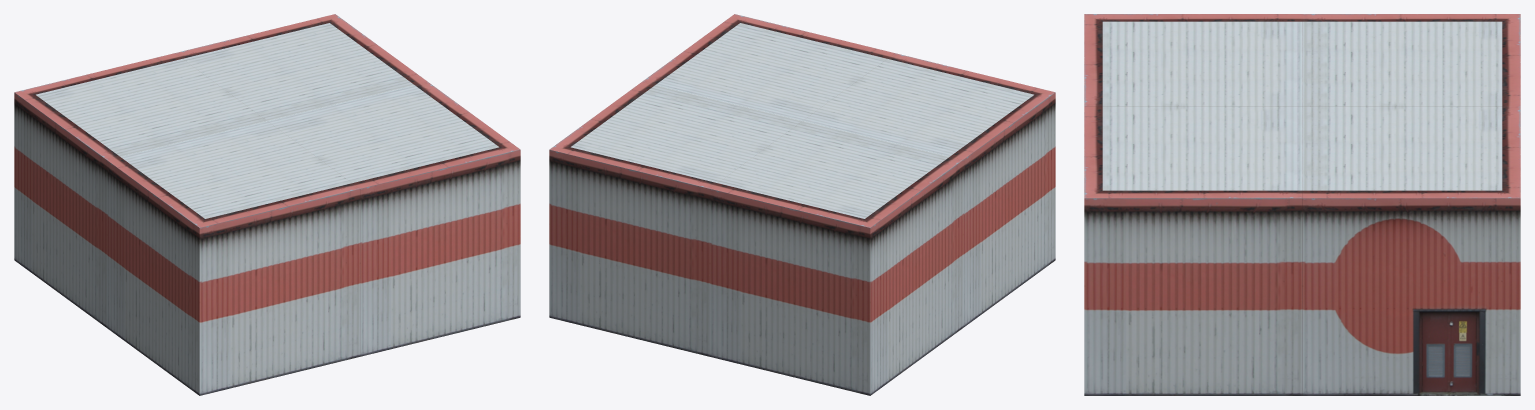
File: Building_C.glb
3 views of the same model, side by side, from view 1: azimuth 30°, elevation 25°; view 2: azimuth 150°, elevation 25°; view 3: azimuth 270°, elevation 25° (orthographic). The views are drawn at different scales.
Visible parts, largest first — view 1: Building_C; view 2: Building_C; view 3: Building_C.
Boxes of the visible parts, <box> form: Building_C: <box>14,14,520,395</box>; Building_C: <box>549,14,1055,395</box>; Building_C: <box>1084,14,1520,395</box>.
Size of the model in its own units: 12 by 6 by 12.
Materials: 1 (1 with a texture image).
